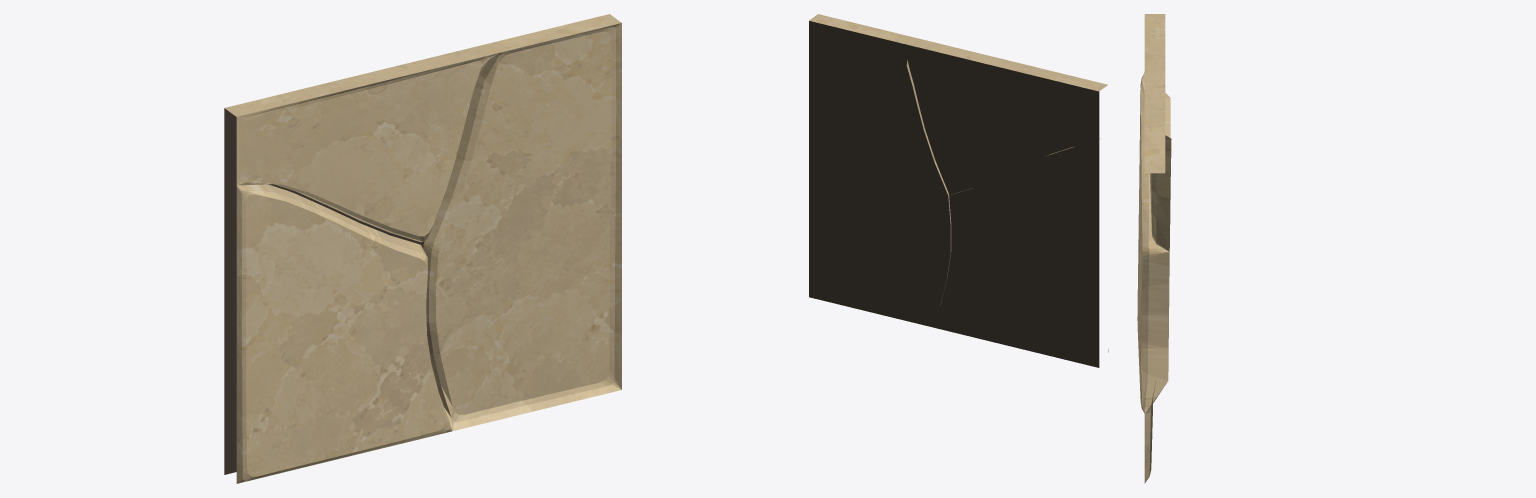
File: ground_edge_06.glb
3 renders of one model, left to right at view 1: azimuth 30°, elevation 25°; view 2: azimuth 150°, elevation 25°; view 3: azimuth 270°, elevation 25°, orthographic. The views are drawn at different scales.
Visible parts, largest first — view 1: GroundEdge06_Body; view 2: GroundEdge06_Body; view 3: GroundEdge06_Body.
Boxes of the visible parts, bbox=[...] form: GroundEdge06_Body: bbox=[224, 14, 621, 483]; GroundEdge06_Body: bbox=[809, 14, 1108, 367]; GroundEdge06_Body: bbox=[1137, 14, 1171, 483].
Size of the model in its own units: 1 by 0.91 by 1.02.
Materials: 5 (4 with a texture image).
